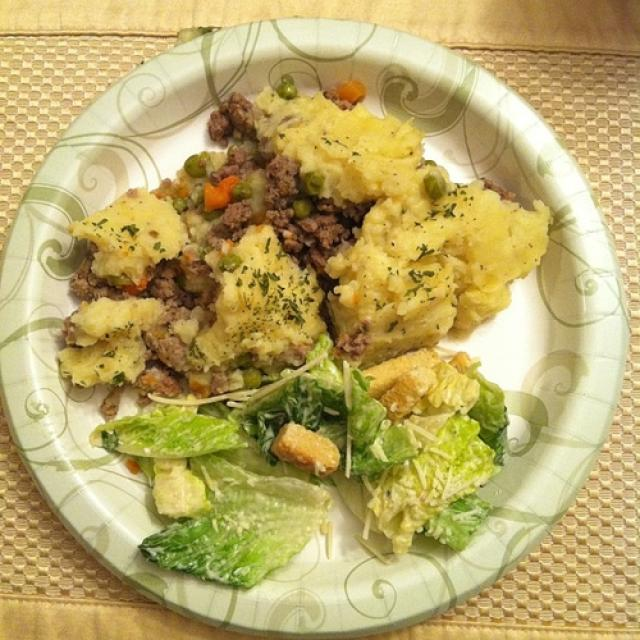蔬菜料理: (29, 55, 594, 611)
